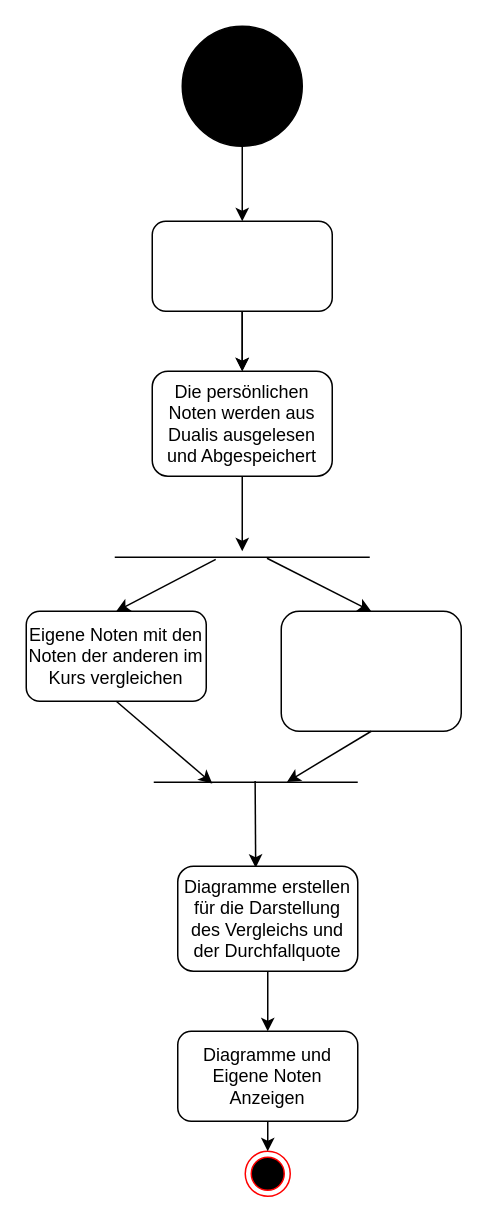
Some shapes in this 488 by 1223 pixel diagram are drawn without their labels. Here are the shapes that lost their labels. From the top down, the centre of each, then its label:
At point (241, 265): "Anmeldung mittels Dualis Anmelde-Daten".
At point (370, 670): "Die Durchfallquote aus den Noten für jedes Modul bestimmen".
